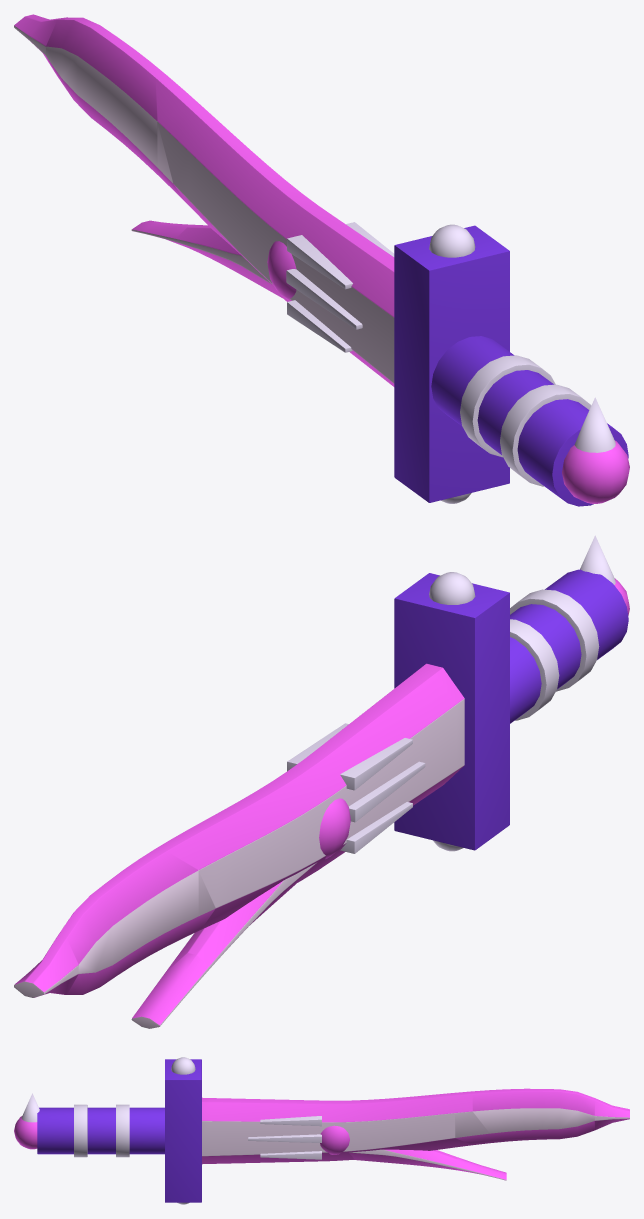
Rendered from Sword_WishboneComet.glb.
3 views of the same model, one above another, from view 1: azimuth 30°, elevation 25°; view 2: azimuth 150°, elevation 25°; view 3: azimuth 270°, elevation 25° (orthographic). The views are drawn at different scales.
Visible parts, largest first — view 1: Sword_WishboneComet; view 2: Sword_WishboneComet; view 3: Sword_WishboneComet.
Part boxes in pixels (x1=…): Sword_WishboneComet: x1=14, y1=14, x2=629, y2=506; Sword_WishboneComet: x1=14, y1=535, x2=629, y2=1028; Sword_WishboneComet: x1=14, y1=1057, x2=629, y2=1204.
Bounding box in the file's own units: 0.086 × 0.26 × 1.
1 material, 1 textured.
